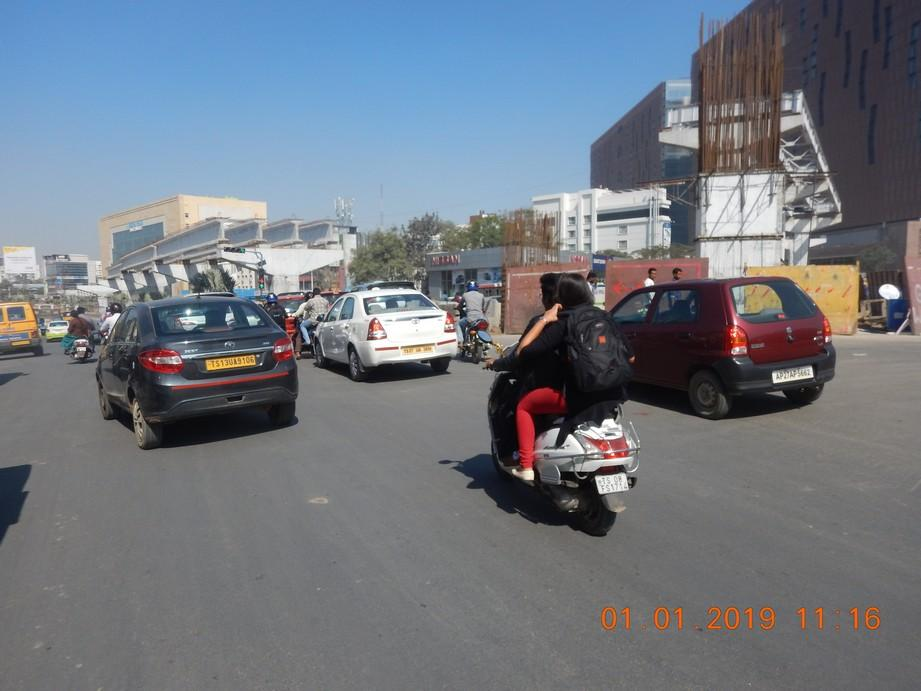plate: (594, 474, 629, 494)
